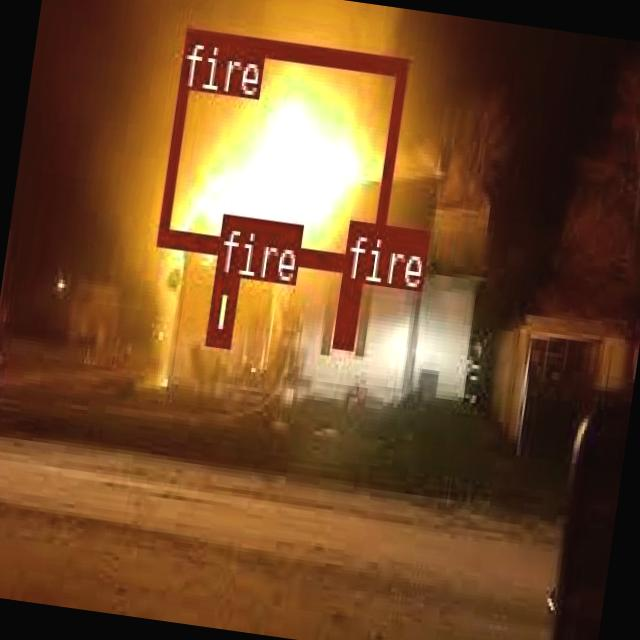fire: (156, 26, 407, 273), (206, 273, 237, 343), (332, 278, 360, 345)
